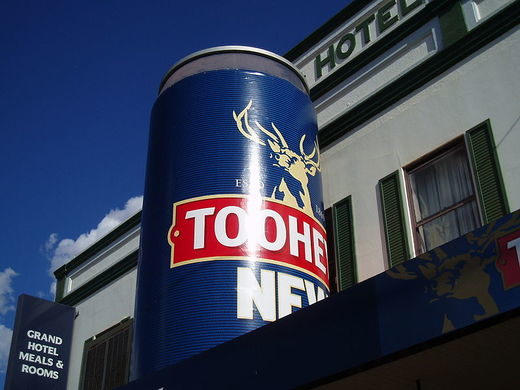beer can: (133, 45, 330, 378)
